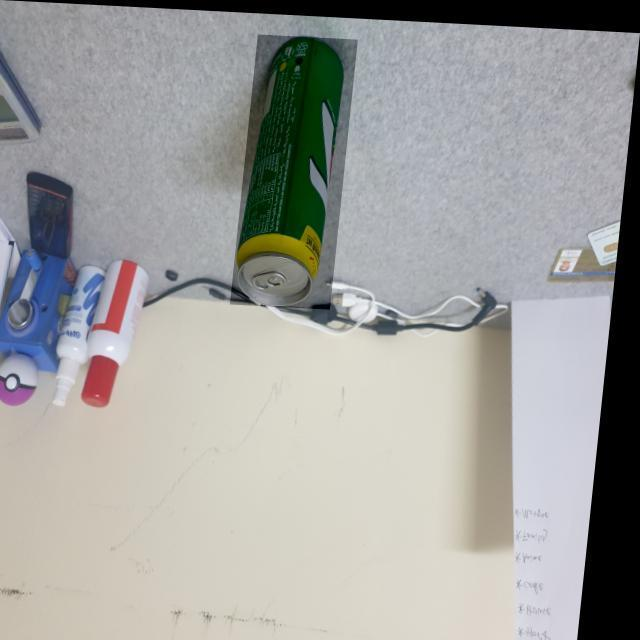trash: (219, 36, 349, 306)
